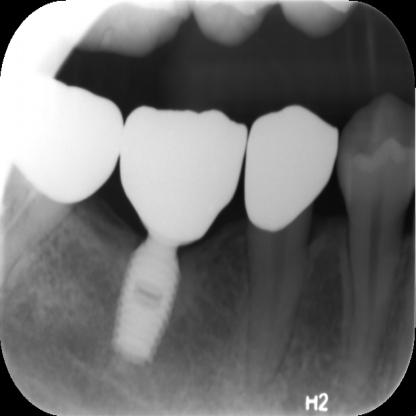Bicon: (106, 238, 201, 388)
